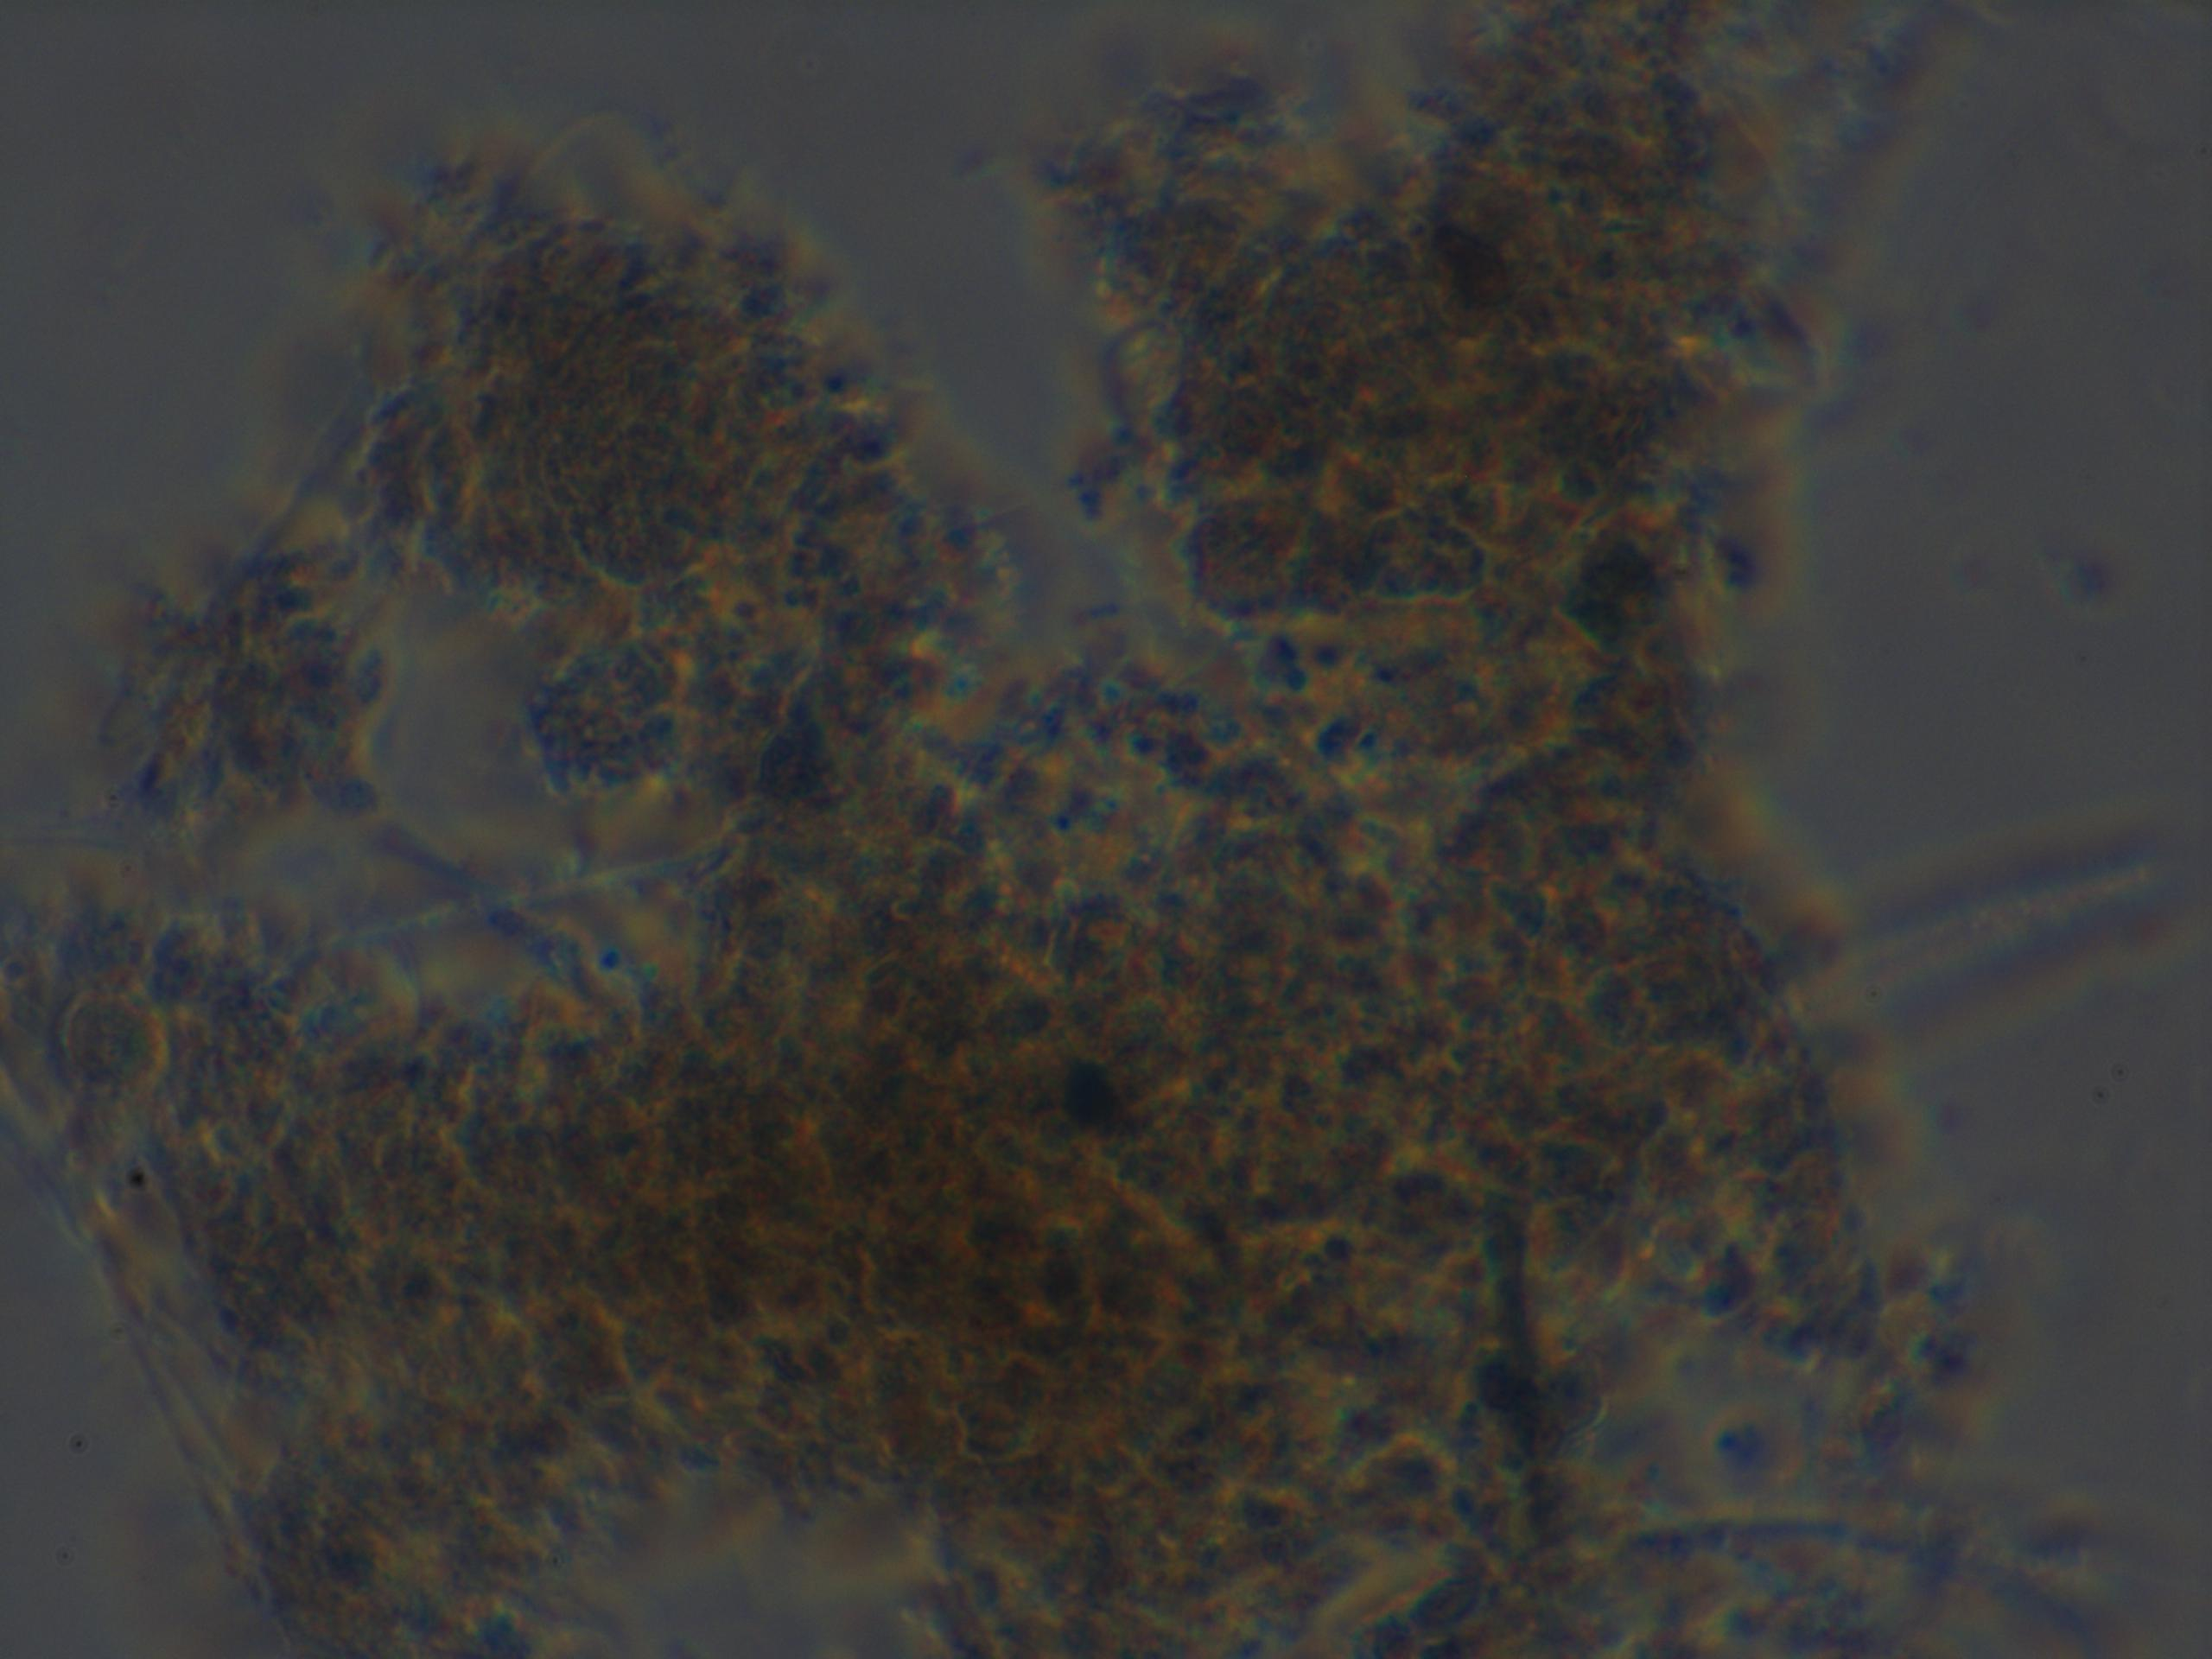filament: (1597, 1455, 2128, 1635), (256, 781, 693, 999), (1808, 835, 2167, 1046)
open_floc: (0, 0, 1949, 1659)
